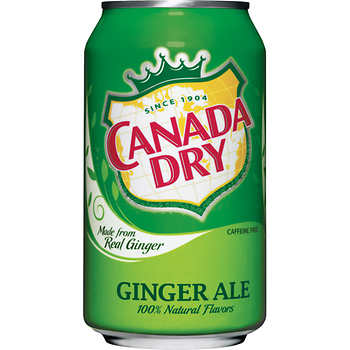Lata: (79, 1, 270, 349)
